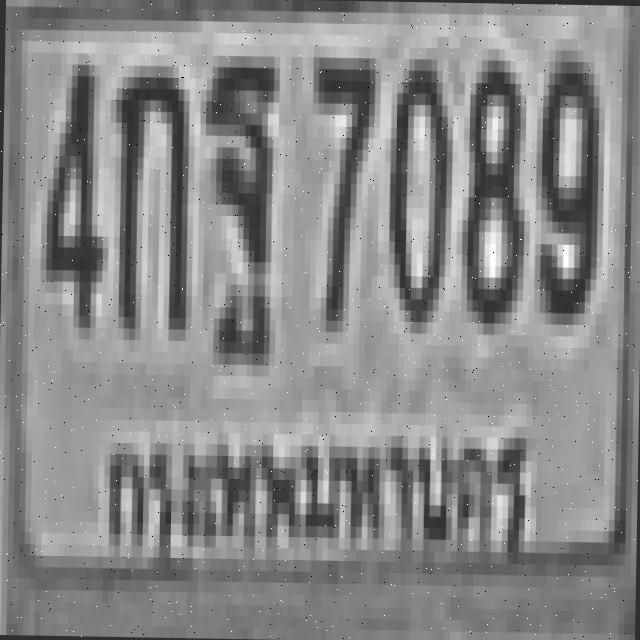0: (382, 46, 448, 322)
10GorGai: (109, 53, 187, 330)
25ThorThan: (197, 49, 274, 325)
4: (39, 52, 100, 328)
7: (303, 46, 370, 322)
8: (454, 54, 522, 318)
9: (534, 38, 594, 313)
Bangkok: (93, 410, 547, 594)
